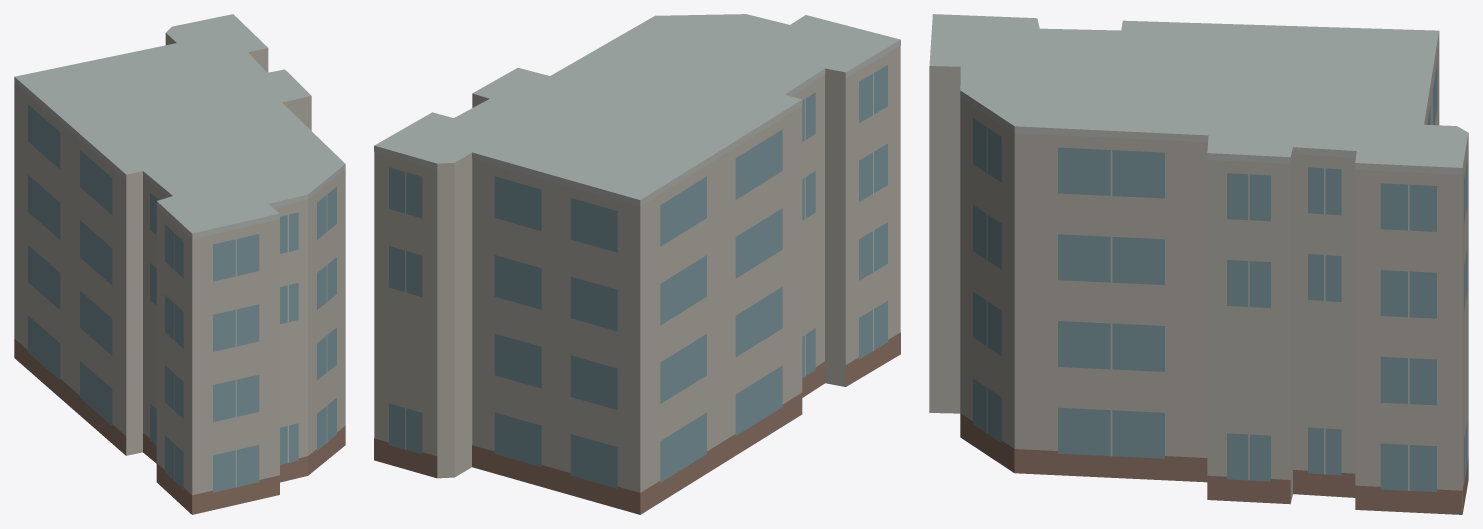
Rendered from survey-upis-32820725.glb.
The picture shows the model from 3 angles, left to right: view 1: azimuth 30°, elevation 25°; view 2: azimuth 150°, elevation 25°; view 3: azimuth 270°, elevation 25°; orthographic projection. The views are drawn at different scales.
Parts seen in each view (by area): view 1: survey-upis-32820725.tmp; view 2: survey-upis-32820725.tmp; view 3: survey-upis-32820725.tmp.
Boxes of the visible parts, x1,y1,x2,y2 form: survey-upis-32820725.tmp: (14, 14, 345, 514); survey-upis-32820725.tmp: (374, 14, 900, 514); survey-upis-32820725.tmp: (929, 14, 1468, 514).
Bounding box in the file's own units: 11.81 × 12.4 × 17.48.
